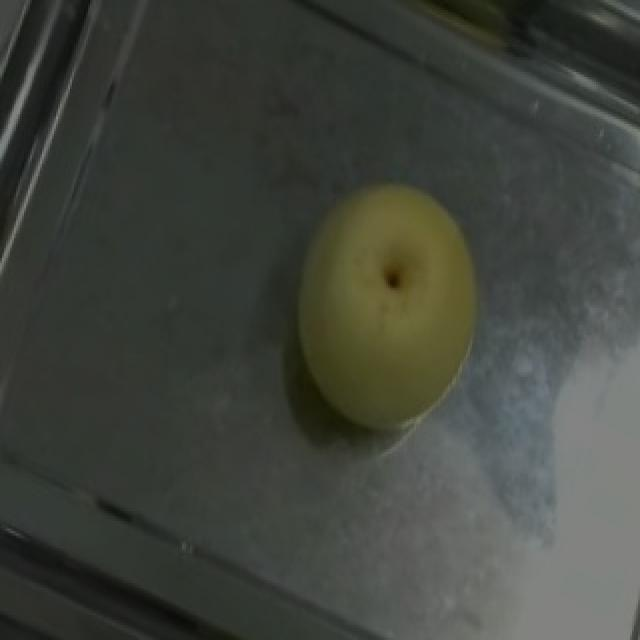Fruit: (250, 141, 526, 469)
